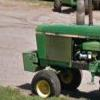Tractor: (15, 14, 100, 100)
